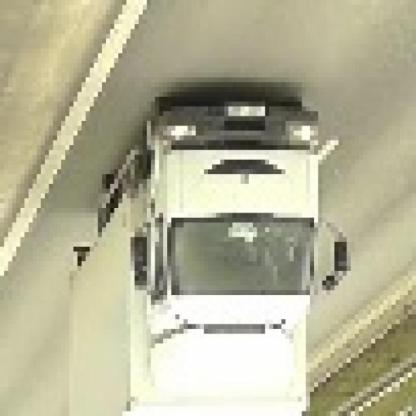truck: (74, 88, 352, 416)
